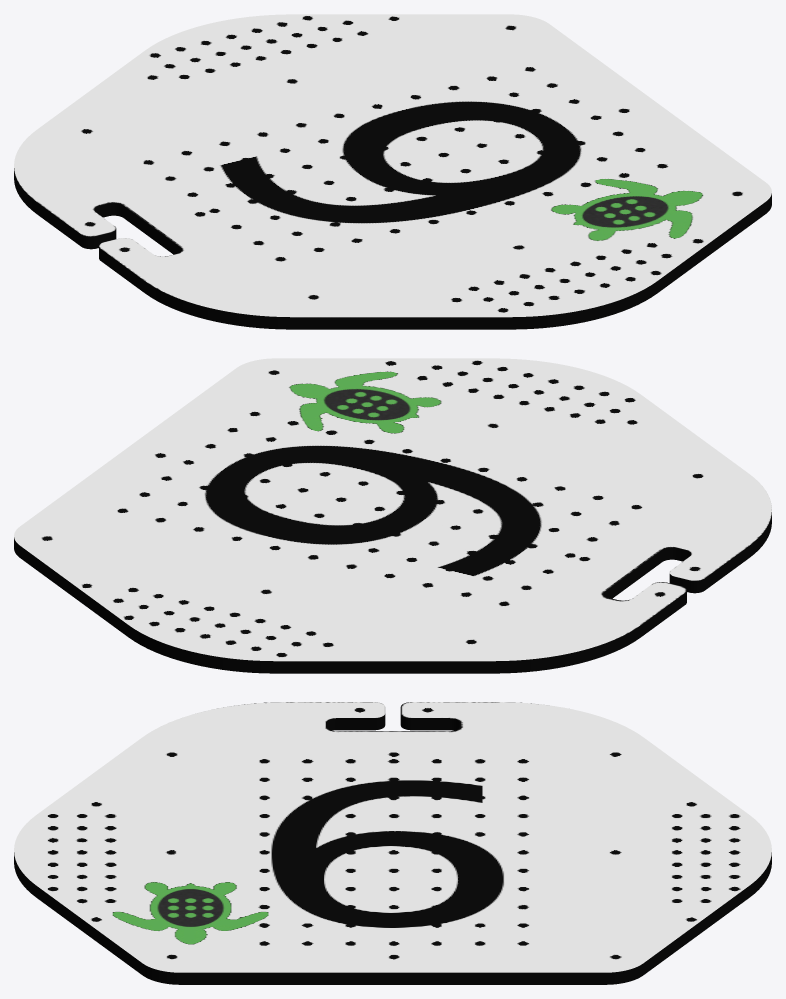
File: plate_top_white.dae
3 renders of one model, top to bottom at view 1: azimuth 30°, elevation 25°; view 2: azimuth 150°, elevation 25°; view 3: azimuth 270°, elevation 25°, orthographic. The views are drawn at different scales.
Parts seen in each view (by area): view 1: _f_stack; view 2: _f_stack; view 3: _f_stack.
Part boxes in pixels (box(x1,y1,x2,y2)): _f_stack: box(14, 14, 771, 329); _f_stack: box(14, 358, 771, 673); _f_stack: box(14, 702, 771, 984).
Bounding box in the file's own units: 0.2873 × 0.34 × 0.006.
1 material, 1 textured.
